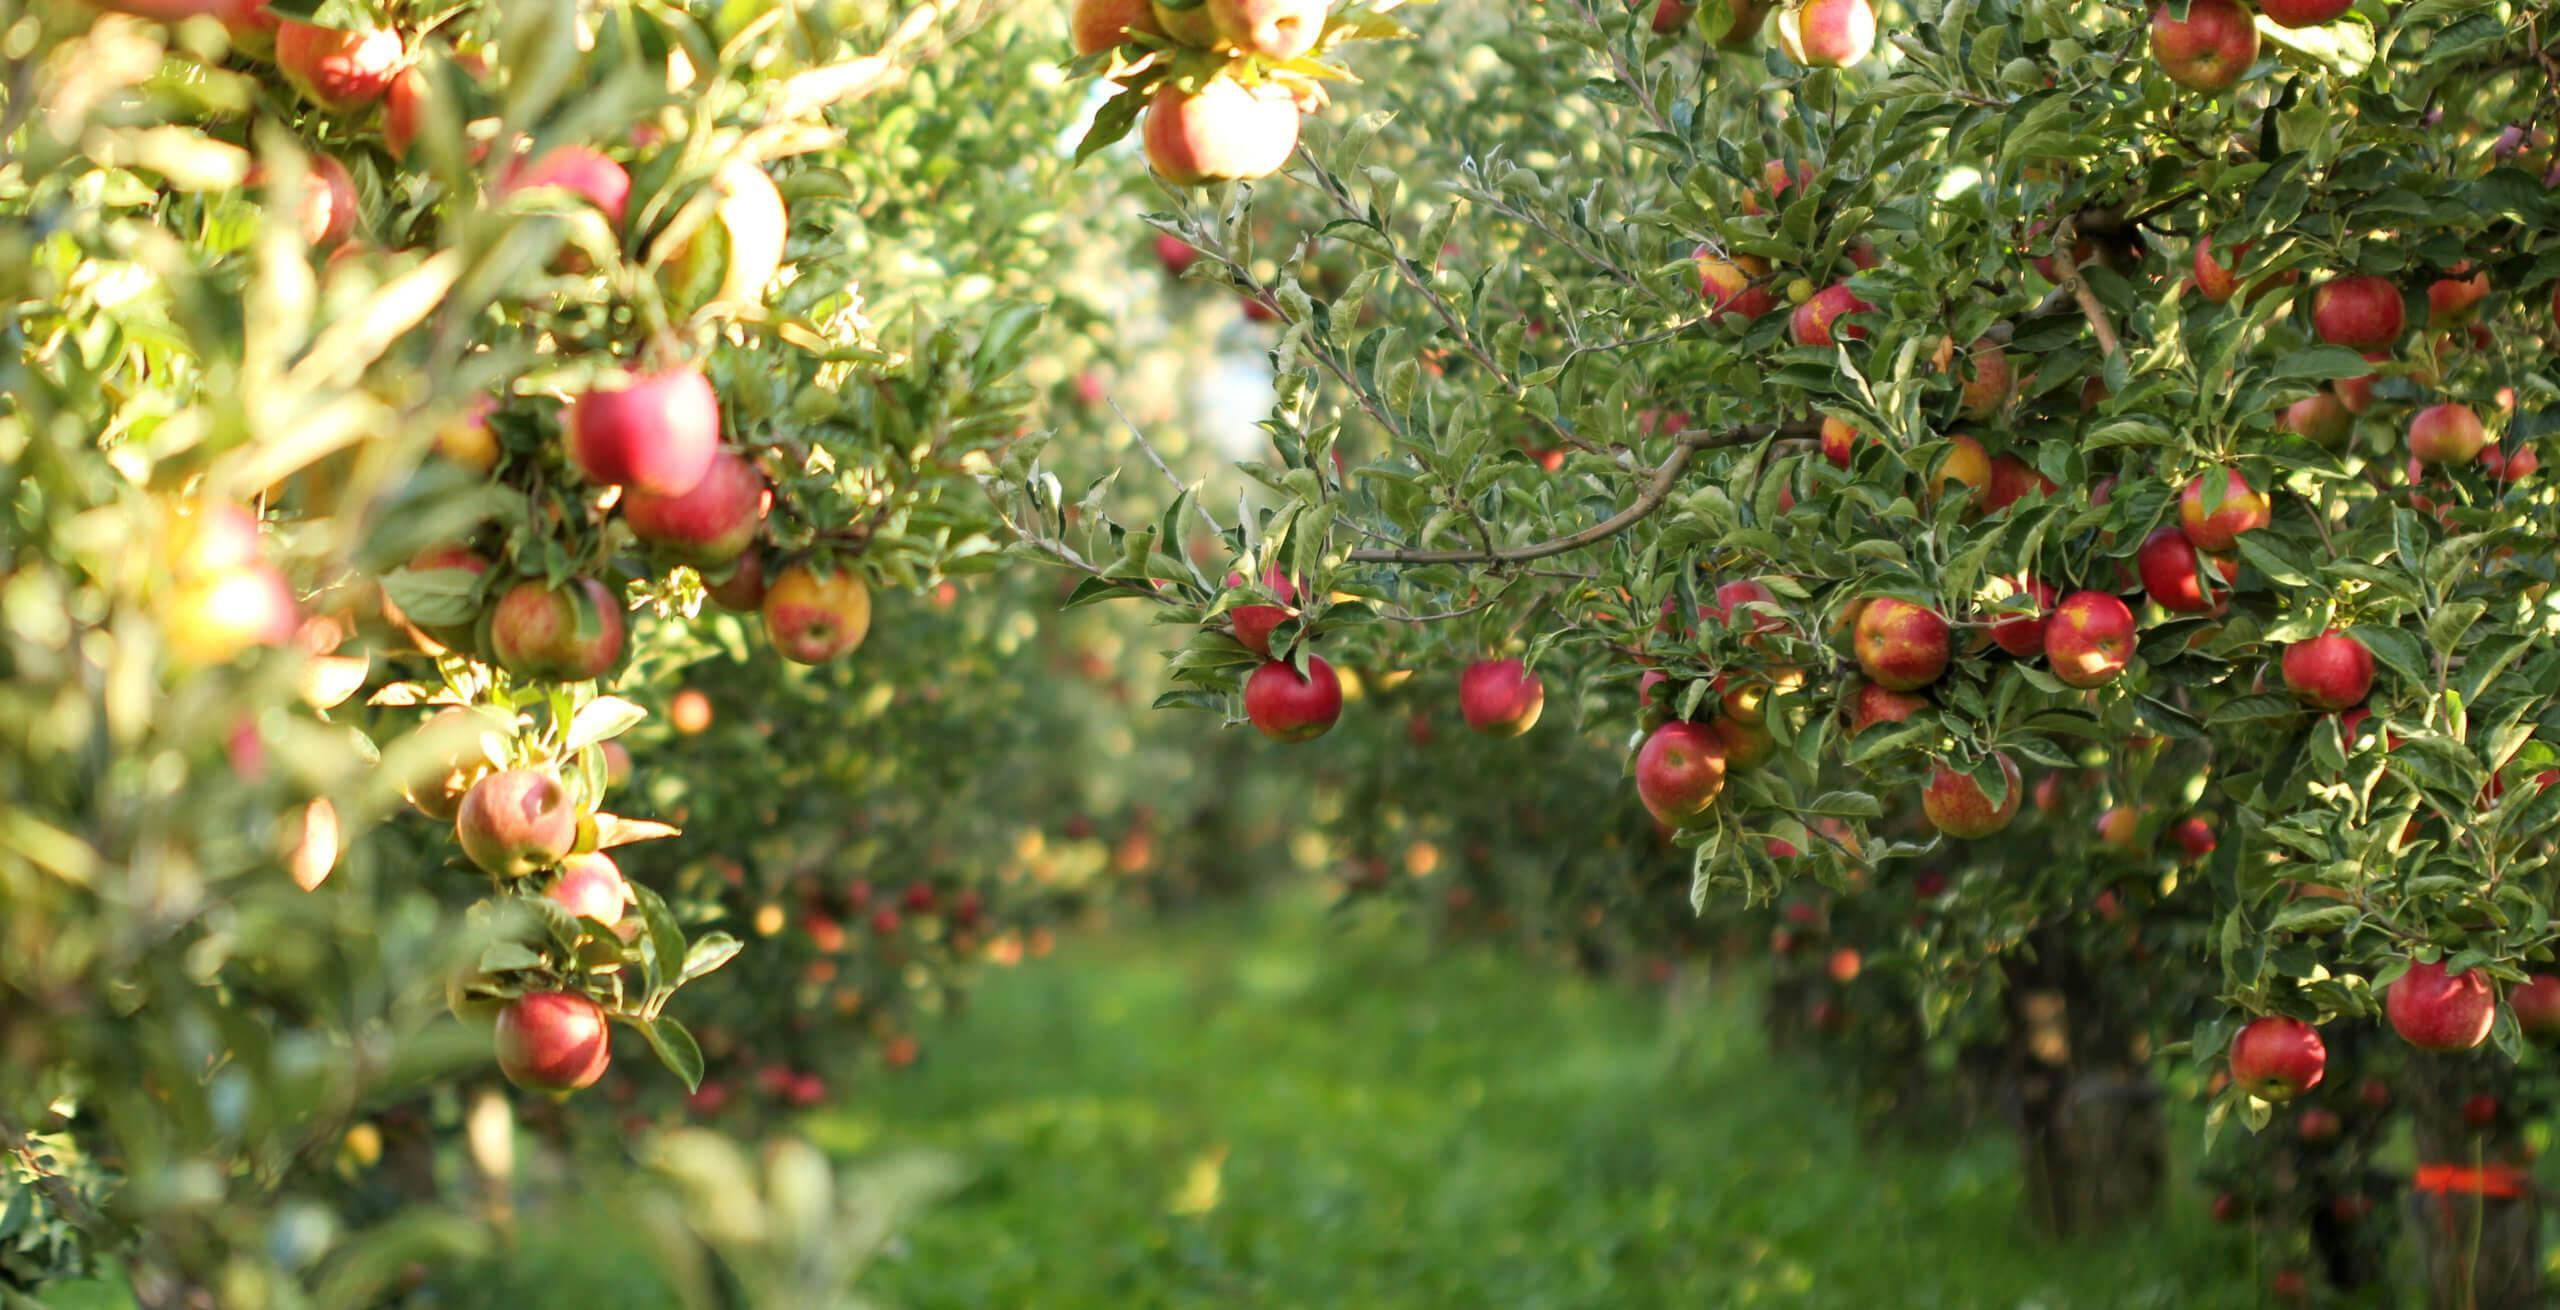apple: (2388, 954, 2495, 1058), (1456, 655, 1545, 745), (1852, 597, 1940, 687), (2046, 590, 2134, 680), (2233, 1013, 2328, 1093)
